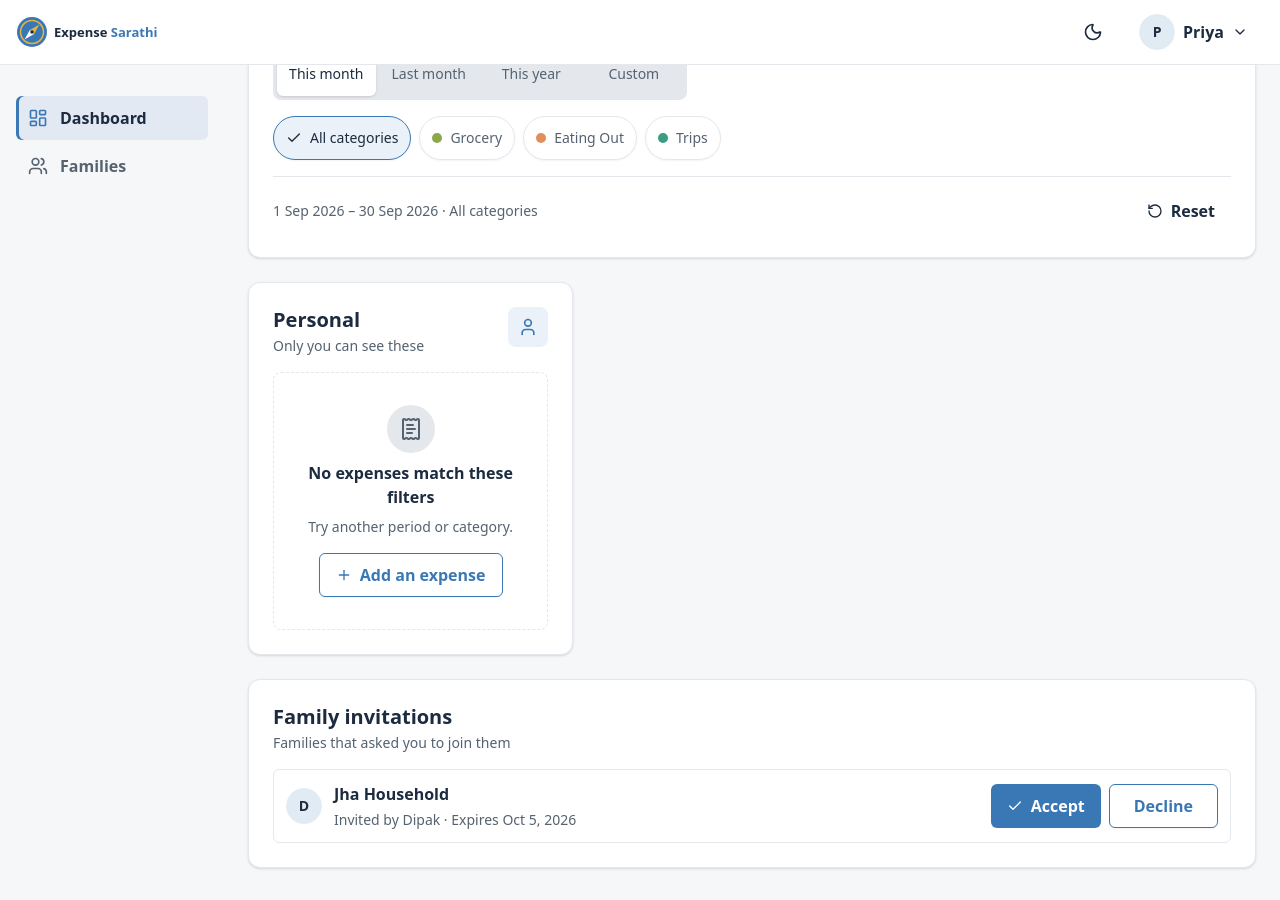
Test: Dashboard invitations › accepts an invitation, confirms it with a toast and shows the family card
The width and height of the screenshot is (1280, 900).
(page scrolled)
expect the element "Personal" is shown: met, box [248,282,573,654]
Click the button with aria-label "Accept invitation to Jha Household": (1046, 806) [991,784,1101,828]
(page scrolled)
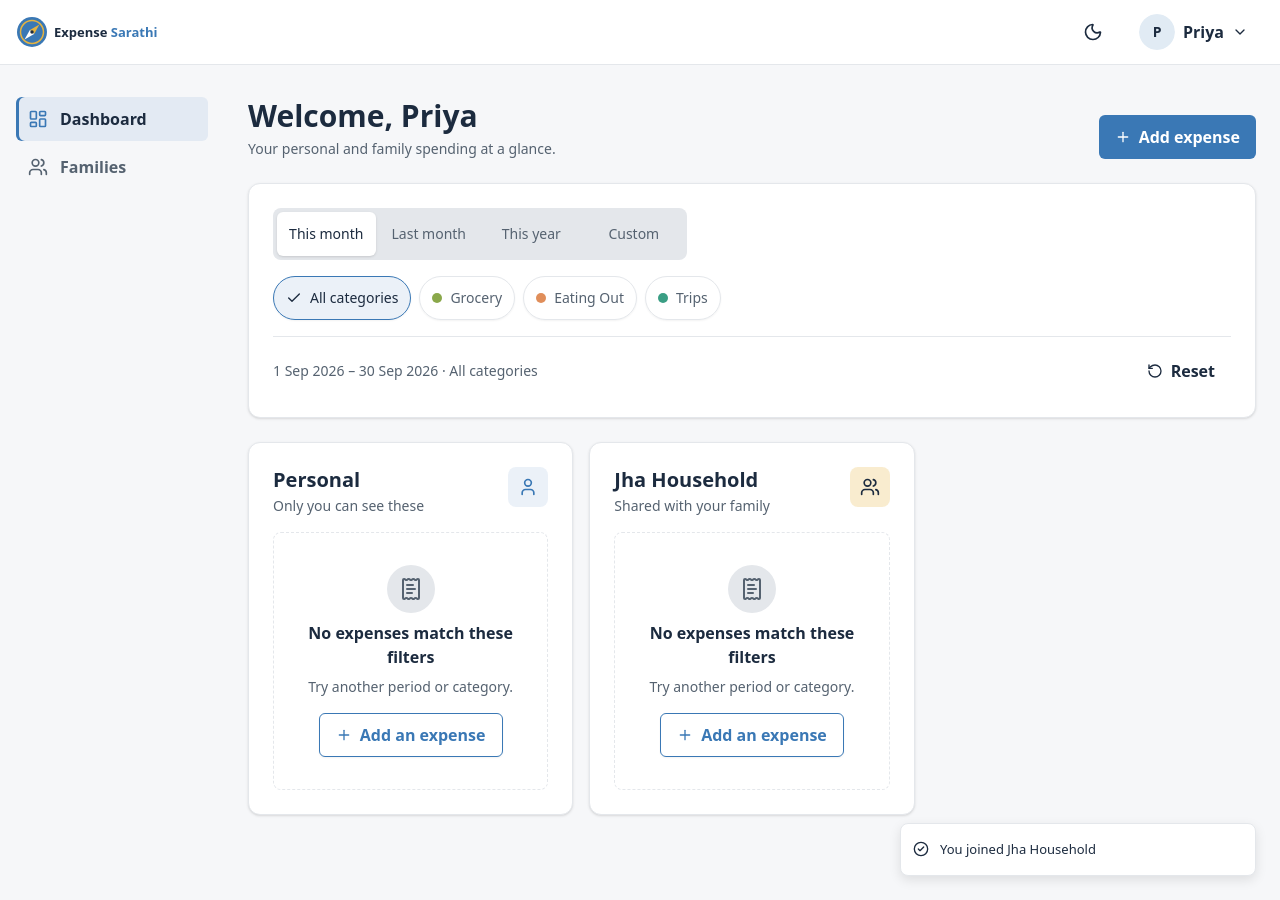
expect the element "Jha Household" is shown: met, box [589,442,915,814]
expect the text "You joined Jha Household" is shown: met, box [940,840,1096,859]
expect the button "Accept" is gone: met
